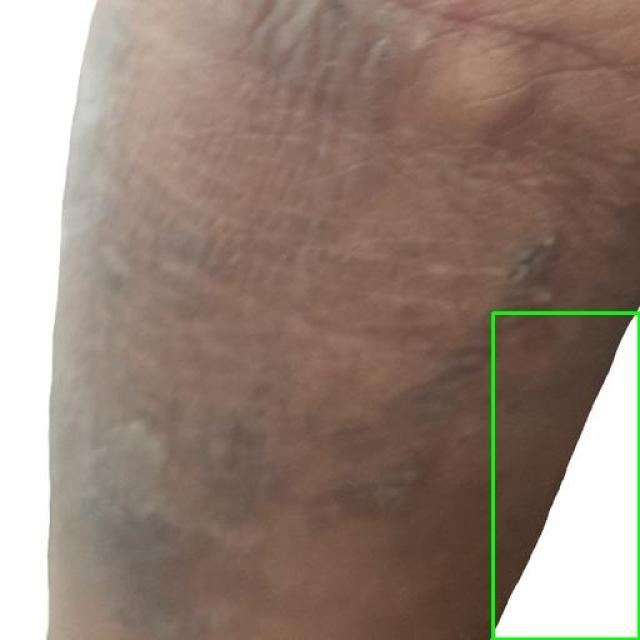Contact Dermatitis: (492, 312, 639, 639)
